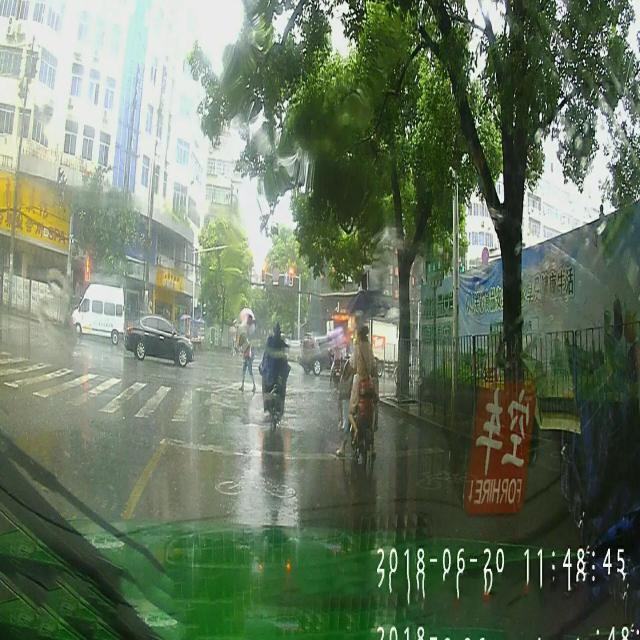car: (122, 316, 196, 366), (70, 286, 124, 342)
